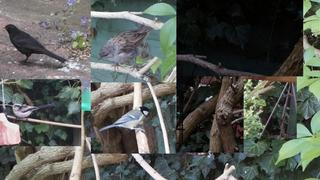blackbird: (1, 24, 67, 67)
dunnock: (97, 24, 152, 73)
great tit: (98, 106, 152, 133)
long tailed tit: (11, 103, 57, 121)
